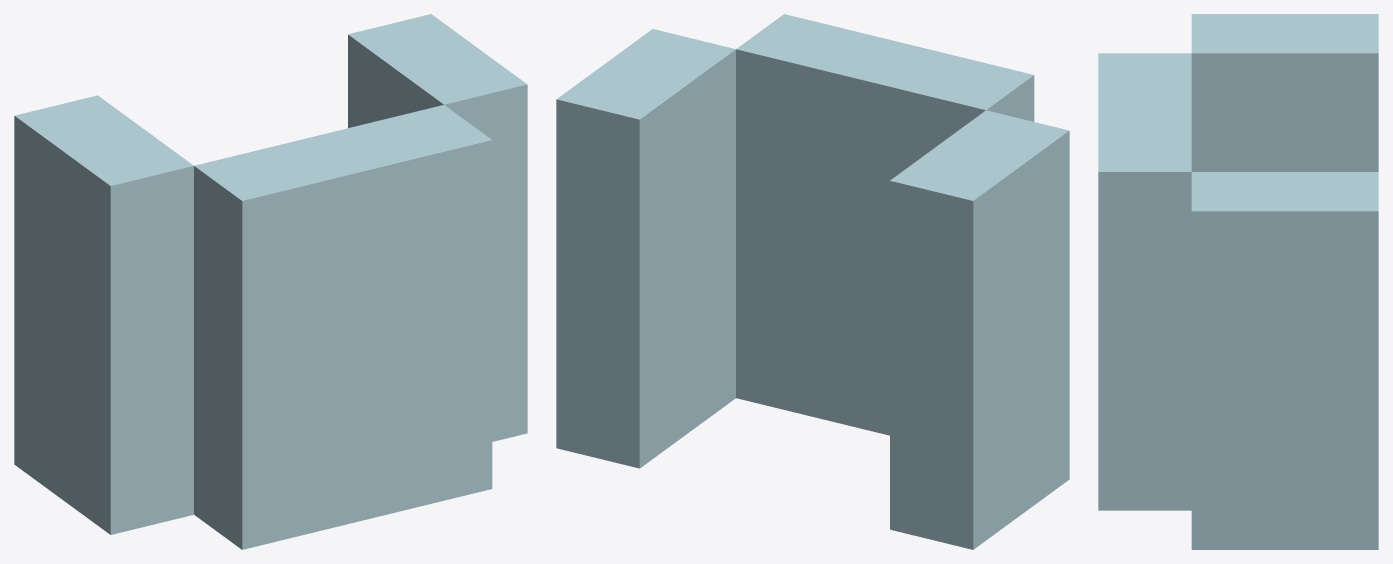
The model's file is Wall Lantern Glass.obj.
3 renders of one model, left to right at view 1: azimuth 30°, elevation 25°; view 2: azimuth 150°, elevation 25°; view 3: azimuth 270°, elevation 25°, orthographic. The views are drawn at different scales.
Bounding box in the file's own units: 0.5 × 0.4 × 0.3.
1 material, 1 textured.
